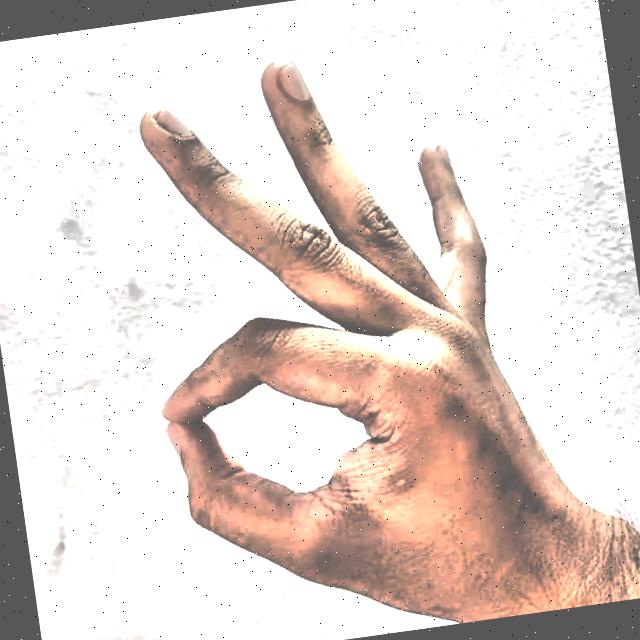Ca: (83, 1, 620, 640)
